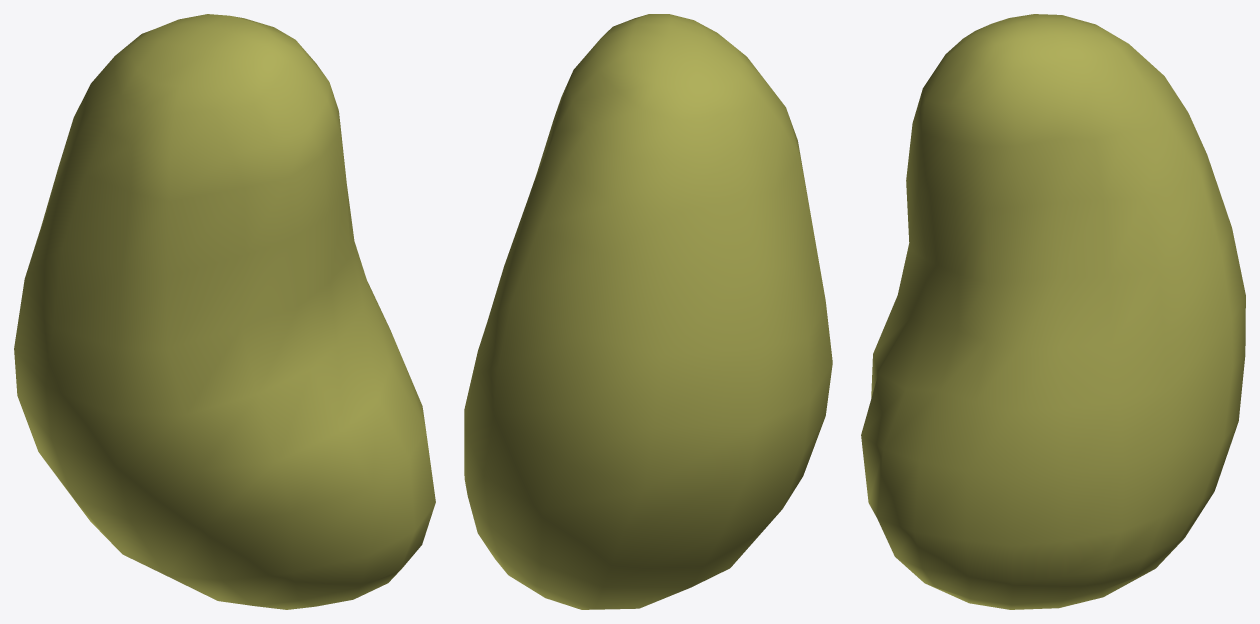
The model's file is potato_lod0_2.fbx.
3 views of the same model, side by side, from view 1: azimuth 30°, elevation 25°; view 2: azimuth 150°, elevation 25°; view 3: azimuth 270°, elevation 25° (orthographic). The views are drawn at different scales.
Parts seen in each view (by area): view 1: polySurface2; view 2: polySurface2; view 3: polySurface2.
Boxes of the visible parts, x1,y1,x2,y2 form: polySurface2: (14, 14, 435, 609); polySurface2: (464, 14, 832, 609); polySurface2: (861, 14, 1245, 609).
Bounding box in the file's own units: 6.11 × 9.97 × 6.38.
